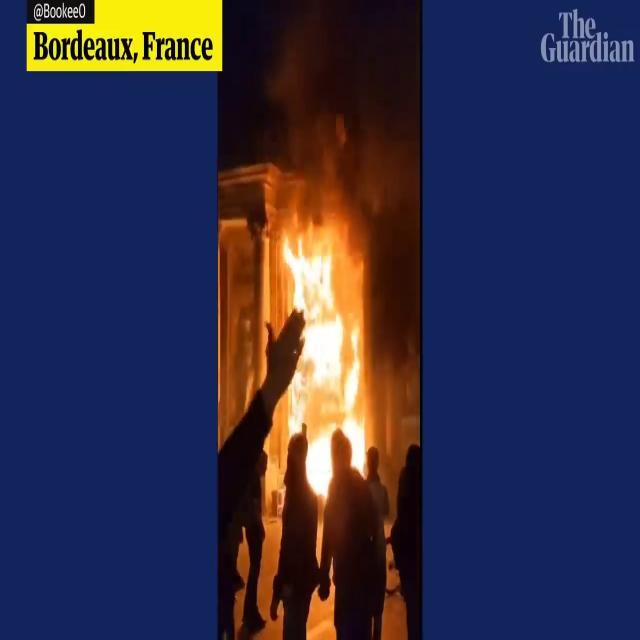Fire: (281, 217, 374, 498)
Smoke: (260, 0, 421, 262)
